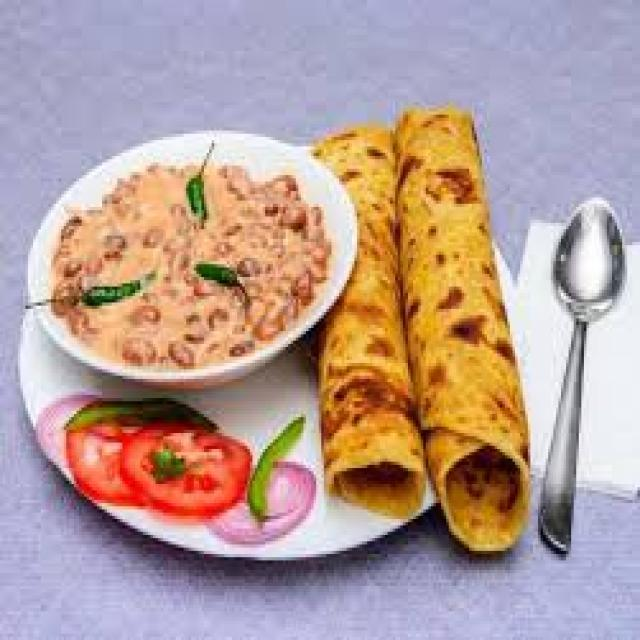chapathi: (342, 131, 528, 558)
